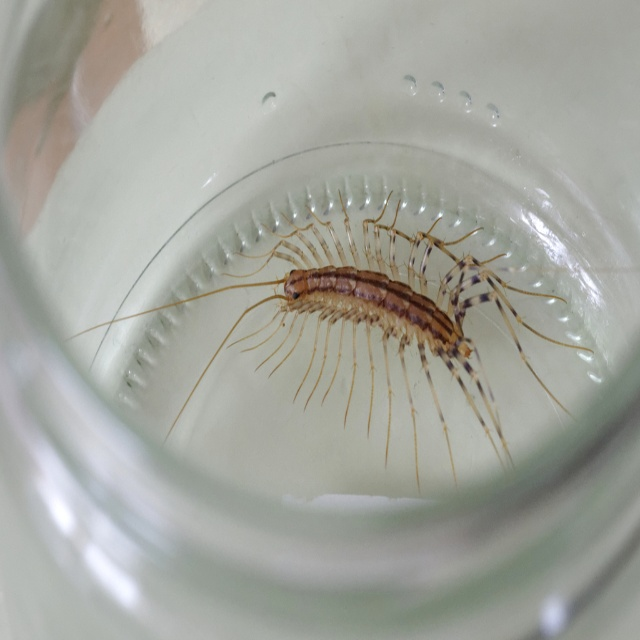Centipede: (64, 185, 640, 499)
